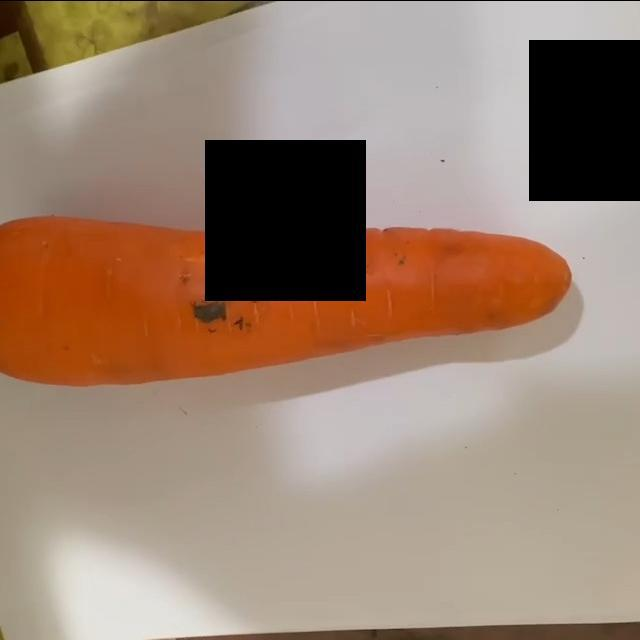carrot: (1, 200, 579, 399)
